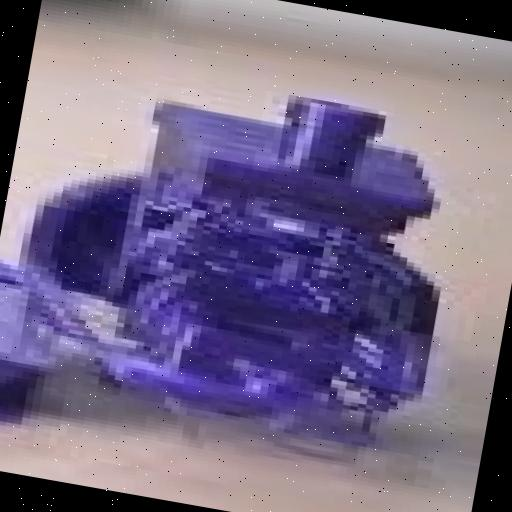spaghetti: (126, 190, 434, 460)
